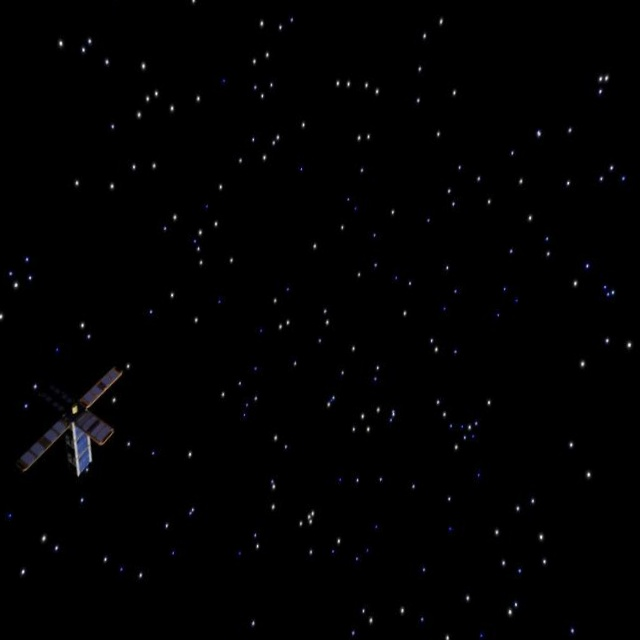satellite: (13, 348, 132, 491)
